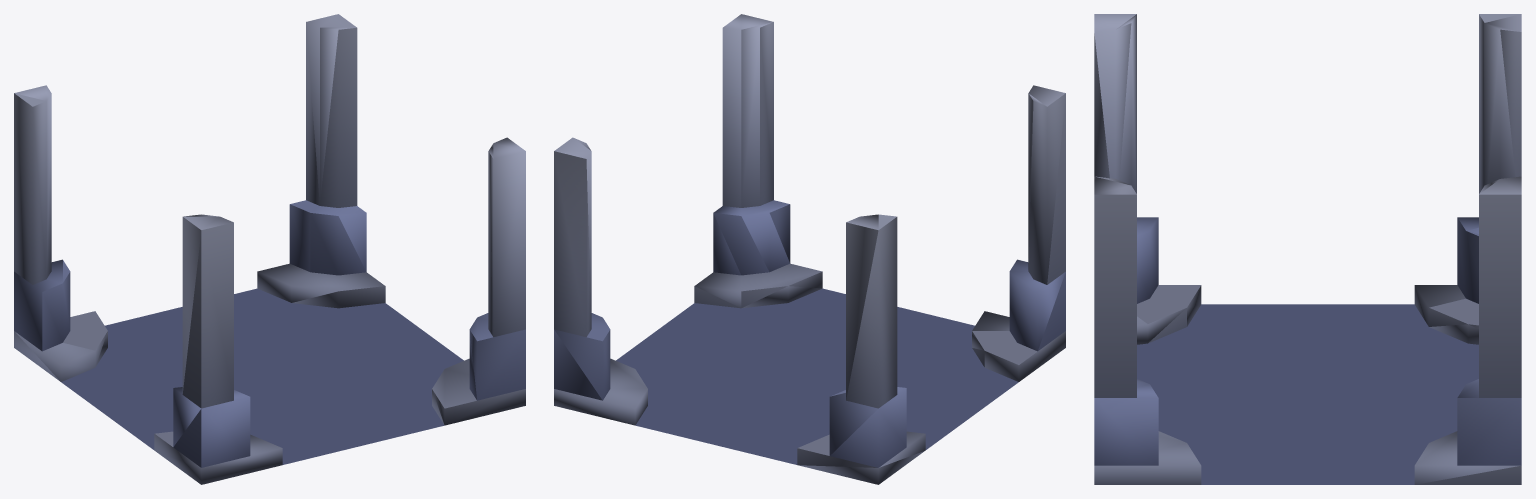
The model's file is corridor-intersection_lev2.glb.
3 views of the same model, side by side, from view 1: azimuth 30°, elevation 25°; view 2: azimuth 150°, elevation 25°; view 3: azimuth 270°, elevation 25° (orthographic). The views are drawn at different scales.
Visible parts, largest first — view 1: corridor-intersection_lev2; view 2: corridor-intersection_lev2; view 3: corridor-intersection_lev2.
Boxes of the visible parts, bbox=[...] form: corridor-intersection_lev2: bbox=[14, 14, 525, 484]; corridor-intersection_lev2: bbox=[554, 14, 1065, 484]; corridor-intersection_lev2: bbox=[1094, 14, 1521, 484].
Size of the model in its own units: 4 by 3 by 4.
Materials: 1 (1 with a texture image).
